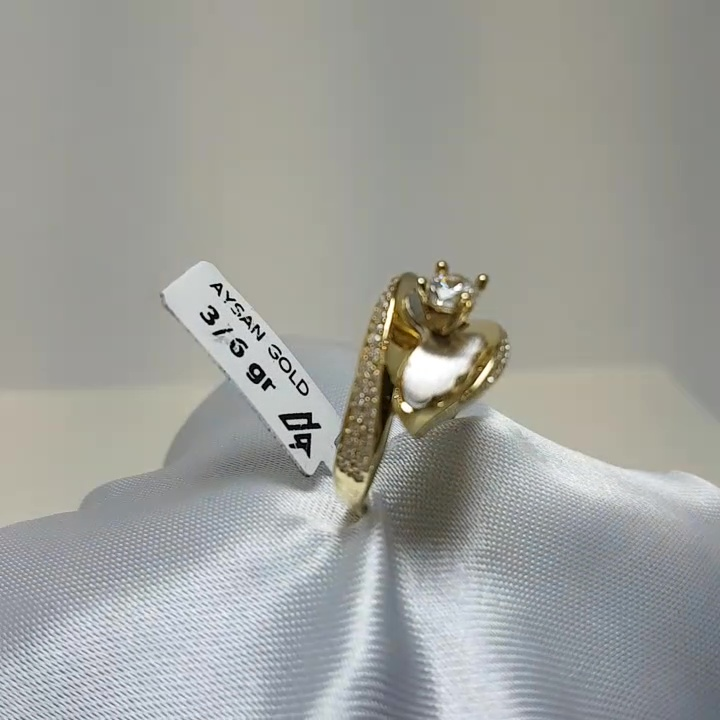Ring 6: (295, 240, 534, 560)
